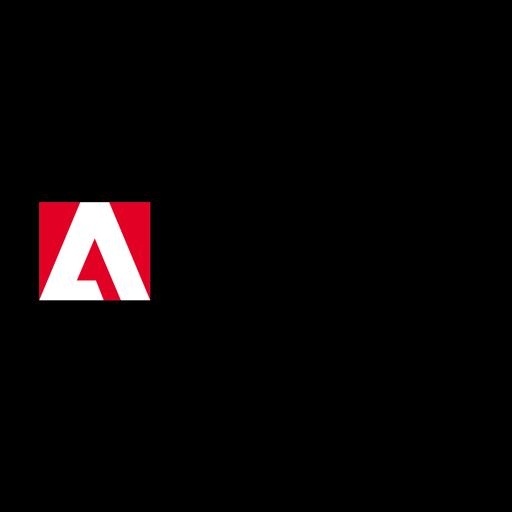Adobe: (0, 130, 512, 382)
